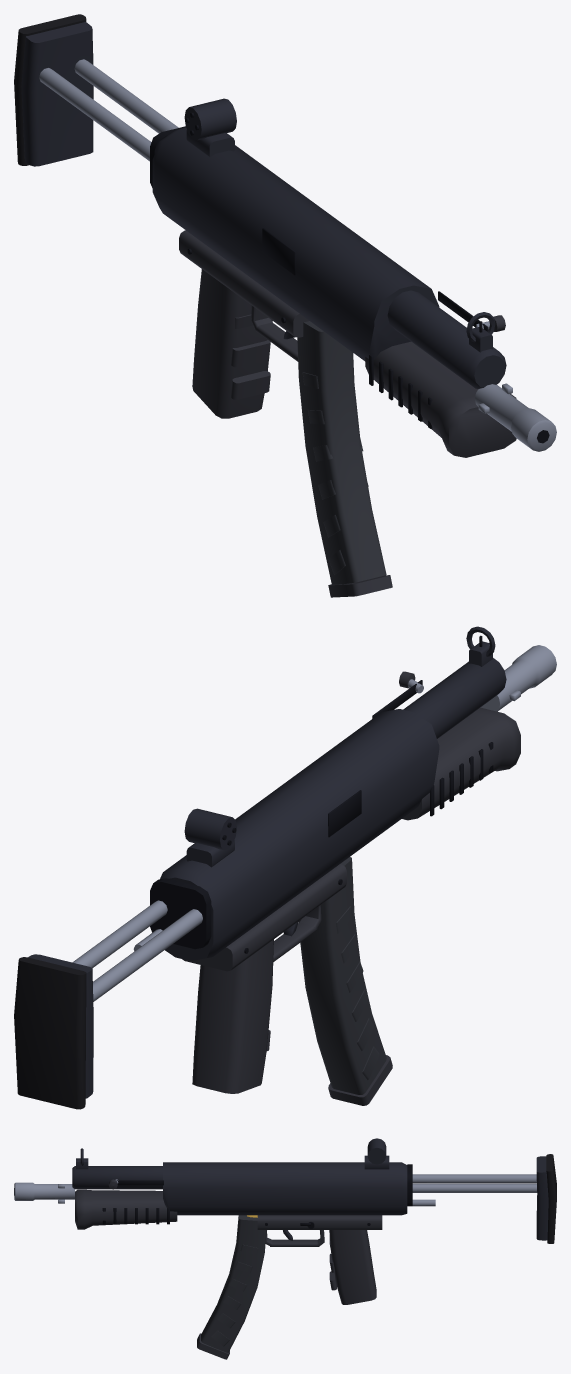
The model's file is smg.fbx.
3 views of the same model, one above another, from view 1: azimuth 30°, elevation 25°; view 2: azimuth 150°, elevation 25°; view 3: azimuth 270°, elevation 25° (orthographic). The views are drawn at different scales.
Visible parts, largest first — view 1: Body.003, Mag.001; view 2: Body.003, Mag.001; view 3: Body.003, Mag.001.
Part boxes in pixels (bbox=[...]): Body.003: bbox=[14, 14, 556, 457]; Mag.001: bbox=[297, 321, 392, 597]; Body.003: bbox=[14, 626, 556, 1109]; Mag.001: bbox=[298, 857, 392, 1105]; Body.003: bbox=[14, 1138, 556, 1304]; Mag.001: bbox=[197, 1215, 266, 1359].
Size of the model in its own units: 6.15 by 26.28 by 60.94.
